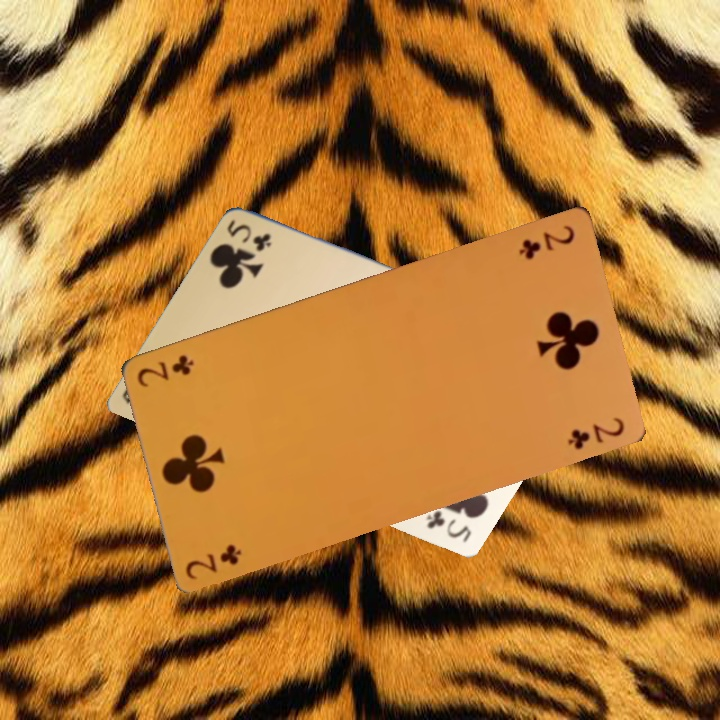2c: (181, 535, 254, 581), (132, 344, 205, 390), (562, 407, 634, 453), (513, 216, 585, 262)
5c: (222, 215, 287, 257)
